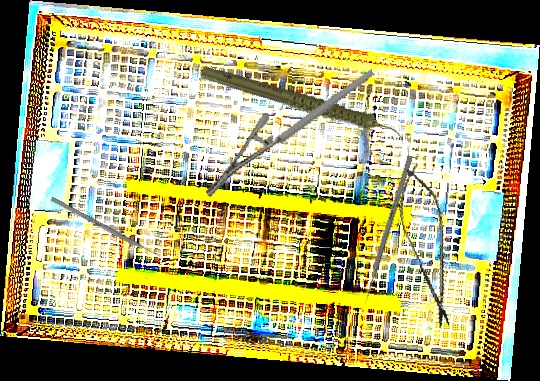Handpiece: (197, 25, 408, 186)
Micro Scissor: (389, 159, 467, 335)
Needle Holder: (186, 69, 394, 199)
Pusher: (361, 155, 414, 305), (50, 196, 168, 263)
